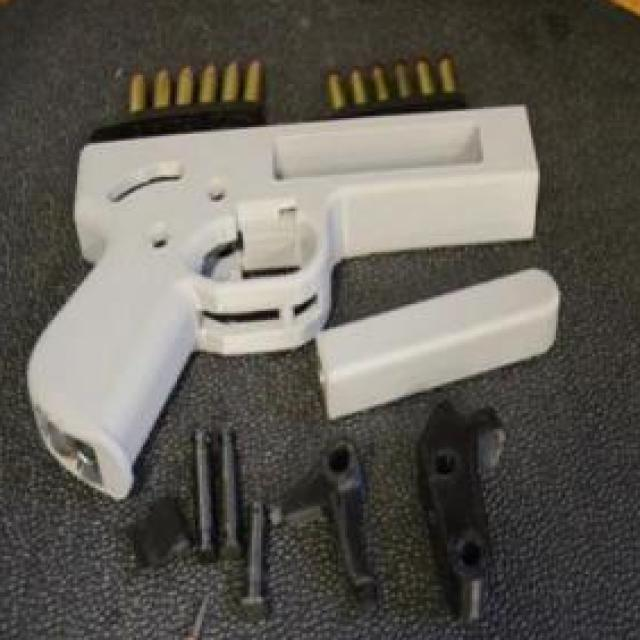pistol: (25, 89, 549, 506)
